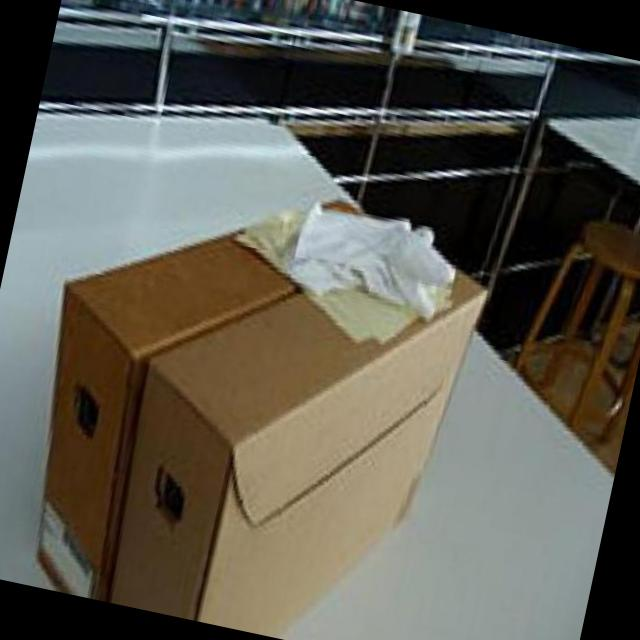box: (0, 132, 373, 637), (92, 202, 510, 640)
